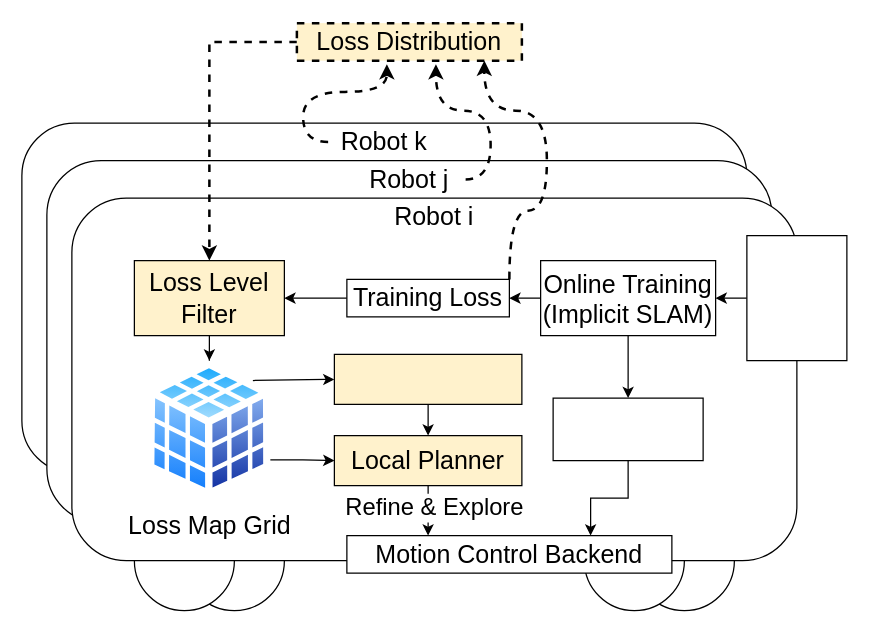
Some shapes in this 869 by 633 pixel diagram are drawn without their labels. The shapes that lost their labels are listed below. From the top down, each one's centre as x and y in pixels, then its label:
At point (796, 297): "Training Input (RGBD)".
At point (427, 378): "Global Planner".
At point (627, 429): "Estimated Robot Pose".
